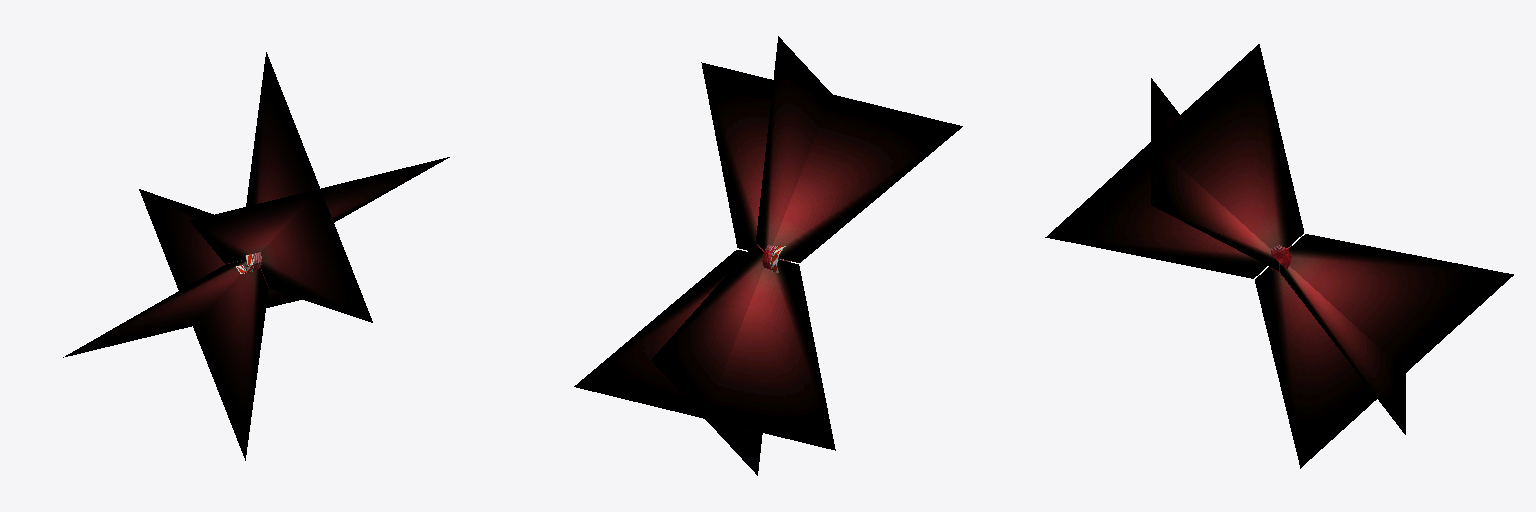
3 renders of one model, left to right at view 1: azimuth 30°, elevation 25°; view 2: azimuth 150°, elevation 25°; view 3: azimuth 270°, elevation 25°, orthographic.
Visible parts, largest first — view 1: polygon4; view 2: polygon4; view 3: polygon4.
Boxes of the visible parts, x1,y1,x2,y2 form: polygon4: [63, 52, 449, 460]; polygon4: [574, 36, 962, 475]; polygon4: [1045, 44, 1513, 468].
Bounding box in the file's own units: 91.26 × 141 × 141.
Materials: 5 (5 with a texture image).